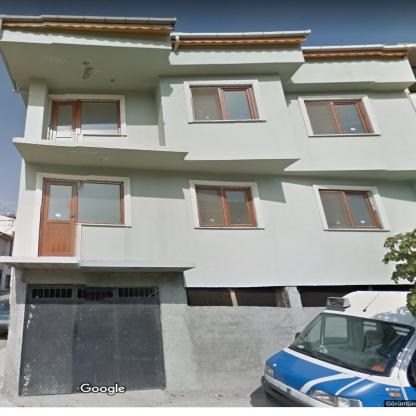door: (20, 286, 162, 396), (39, 179, 78, 256), (50, 100, 78, 140)
window: (197, 186, 255, 226), (320, 190, 379, 228), (192, 86, 257, 120), (305, 100, 370, 134), (78, 181, 122, 223), (79, 100, 120, 134)
